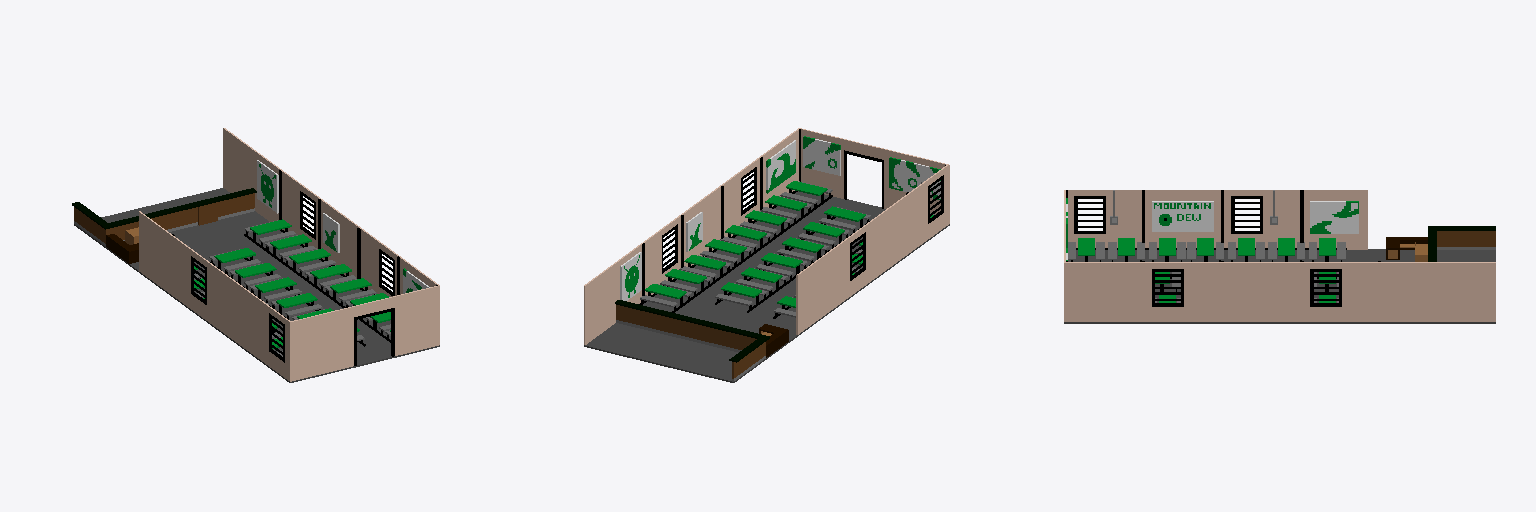
3 views of the same model, side by side, from view 1: azimuth 30°, elevation 25°; view 2: azimuth 150°, elevation 25°; view 3: azimuth 270°, elevation 25° (orthographic).
Parts seen in each view (by area): view 1: object 1; view 2: object 1; view 3: object 1.
Part boxes in pixels (bbox=[...]): object 1: bbox=[72, 128, 439, 382]; object 1: bbox=[584, 128, 949, 382]; object 1: bbox=[1064, 190, 1495, 323].
Bounding box in the file's own units: 10.5 × 4 × 25.6.
Materials: 1 (1 with a texture image).